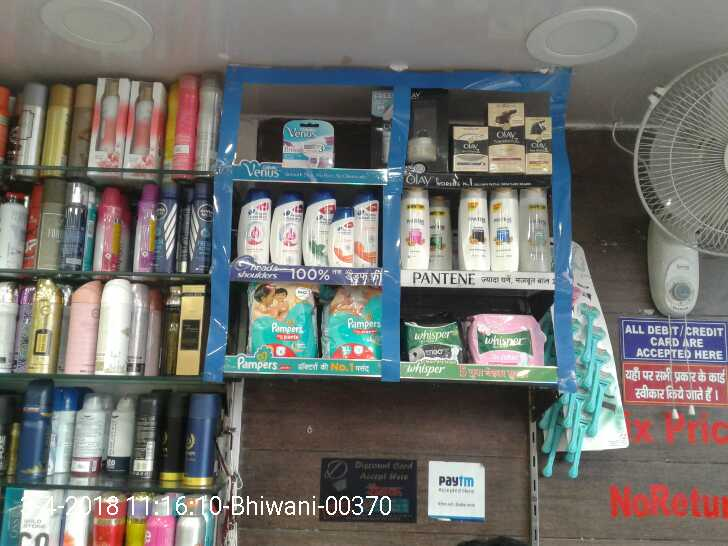venus: (581, 295, 614, 438), (541, 391, 585, 478), (282, 116, 334, 167)
